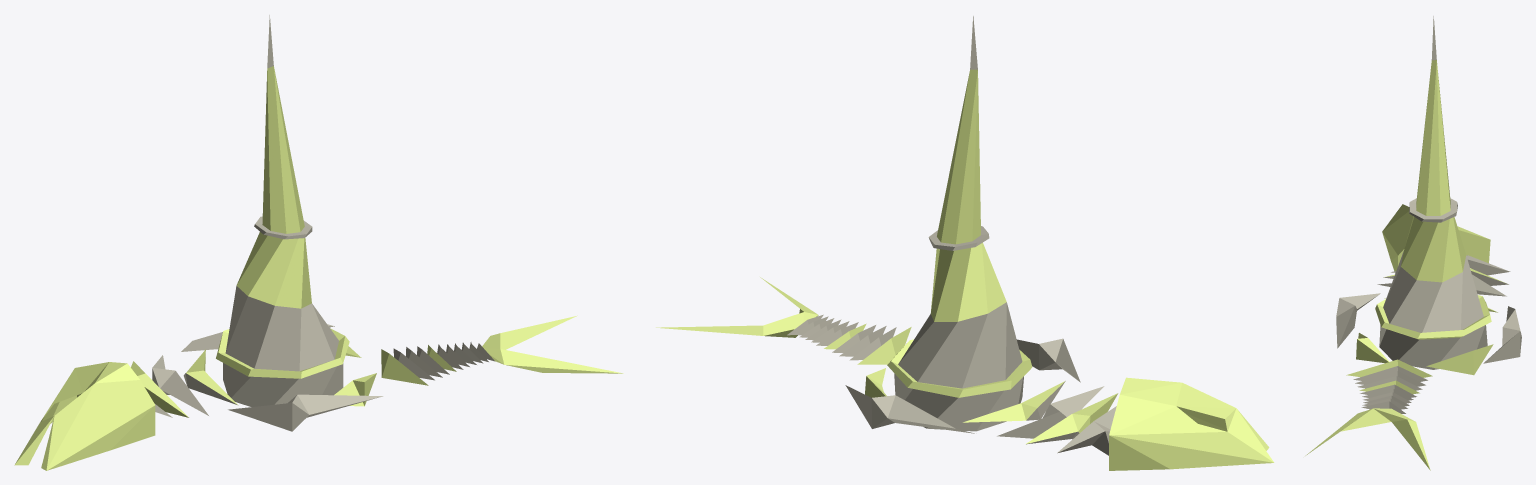
The model's file is dajar-fish-tower.glb.
3 renders of one model, left to right at view 1: azimuth 30°, elevation 25°; view 2: azimuth 150°, elevation 25°; view 3: azimuth 270°, elevation 25°, orthographic. The views are drawn at different scales.
Parts seen in each view (by area): view 1: body, Cylinder; view 2: body, Cylinder; view 3: Cylinder, body.
Boxes of the visible parts, box(x1,y1,x2,y2) form: body: box(14, 315, 623, 470); Cylinder: box(216, 15, 349, 406); body: box(656, 277, 1274, 470); Cylinder: box(887, 16, 1032, 431); Cylinder: box(1375, 16, 1491, 369); body: box(1305, 204, 1521, 470).
Size of the model in its own units: 34.29 by 21.32 by 12.92.
